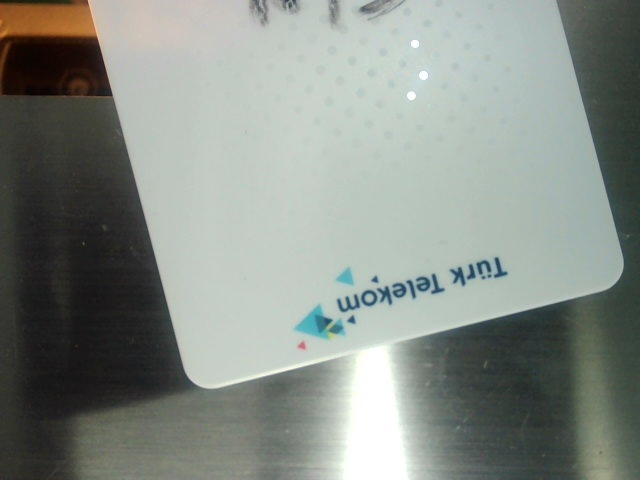AQ_TURKTelekom: (282, 256, 517, 354)
